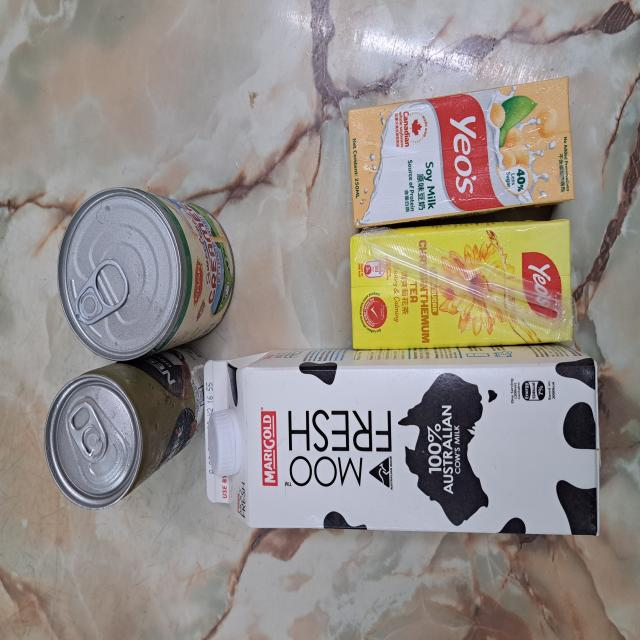can: (58, 189, 236, 358), (48, 352, 204, 511)
drink carton: (202, 346, 602, 538), (351, 78, 574, 228), (352, 222, 577, 347)
plastic bottle cap: (206, 407, 246, 478)
pop tab: (74, 257, 129, 328), (68, 398, 110, 460)
